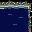Interaction: (0, 0, 32, 12), (23, 12, 32, 32)
Slow: (0, 8, 28, 32)
